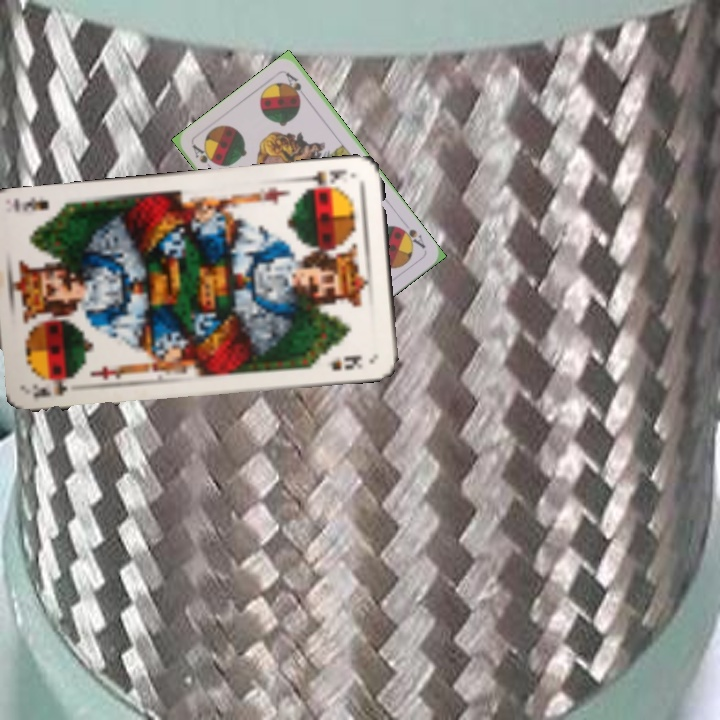SA: (394, 222, 428, 251), (188, 140, 219, 168)
SK: (298, 165, 357, 193), (28, 375, 79, 402)
